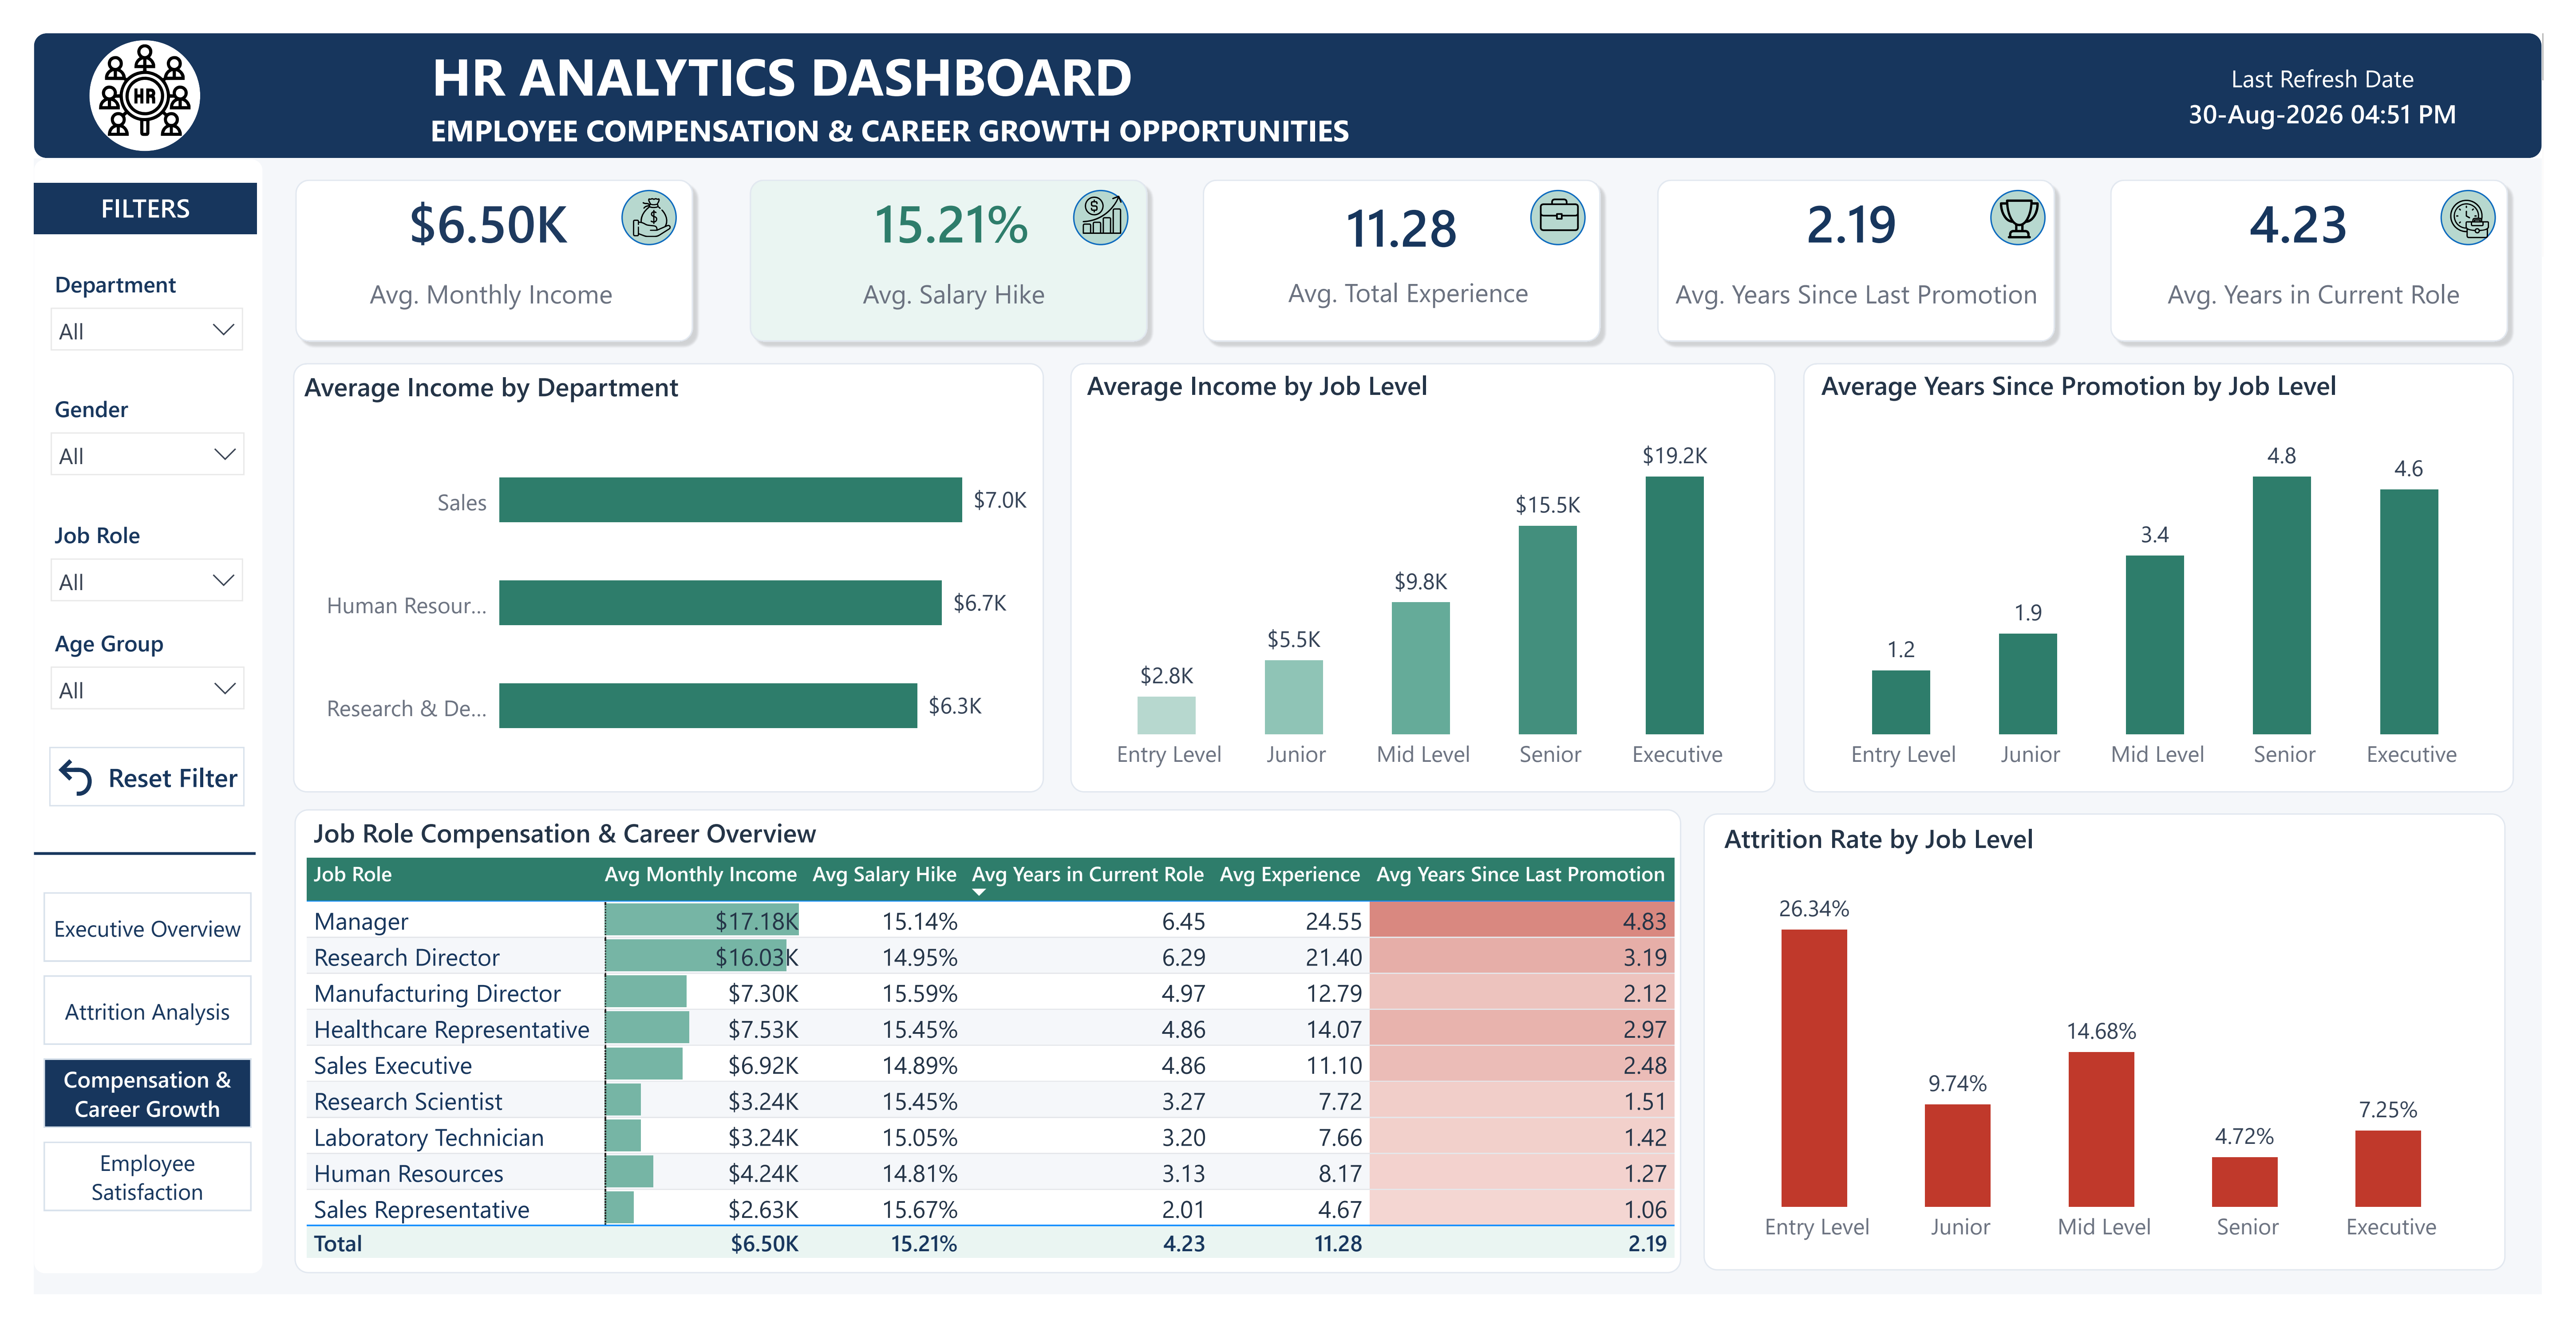

What the dashboard file says about the page in this screenshot:
{"tool":"powerbi","page":{"name":"Compensation & Career Growth","canvas":[1810,910],"ordinal":2},"visuals":[{"type":"shape","box":[0,0,1810,90],"z":0},{"type":"shape","box":[423.5,113.2,40,40],"z":0,"group":"g7"},{"type":"shape","box":[750.2,113.2,40,40],"z":0,"group":"g8"},{"type":"shape","box":[1080.2,113.2,40,40],"z":0,"group":"g9"},{"type":"shape","box":[1411.8,113.2,40,40],"z":0,"group":"g10"},{"type":"shape","box":[1736.8,113.2,40,40],"z":0,"group":"g11"},{"type":"image","box":[756.9,117.2,28,28],"z":1000,"group":"g8"},{"type":"image","box":[1086.9,117.2,28,28],"z":1000,"group":"g9"},{"type":"image","box":[431.5,119.1,28,28],"z":1000,"group":"g7"},{"type":"image","box":[1418.5,119.9,28.3,28.3],"z":1000,"group":"g10"},{"type":"image","box":[1743.5,119.9,28,28],"z":1000,"group":"g11"},{"type":"shape","box":[187.5,560.4,1001,335],"z":1000},{"type":"shape","box":[187.3,238.3,541.4,310],"z":2000},{"type":"textbox","box":[281.7,0,575.7,60],"z":3000},{"type":"clusteredBarChart","title":"Average Income by Department","fields":{"Y":["_Measures.Average Salary"],"Category":["hr_employees.department"]},"box":[190.1,241.6,531.6,299.4],"z":4000},{"type":"textbox","box":[280.9,50.5,777.2,38.7],"z":5000},{"type":"shape","box":[0,91.3,164.7,804],"z":6000},{"type":"shape","box":[1492.1,98.8,300,130],"z":7000,"group":"g5"},{"type":"slicer","fields":{"Values":["hr_employees.department"]},"box":[1.6,164.7,159.8,89.7],"z":7000},{"type":"shape","box":[182.2,99.1,300,130],"z":8000,"group":"g1"},{"type":"slicer","fields":{"Values":["hr_employees.gender"]},"box":[1.6,255.4,160,90],"z":8000},{"type":"shape","box":[509.7,98.8,300,130],"z":9000,"group":"g2"},{"type":"slicer","fields":{"Values":["hr_employees.Age Group"]},"box":[1.6,424,160,90],"z":9000},{"type":"shape","box":[837.1,98.8,300,130],"z":10000,"group":"g3"},{"type":"slicer","fields":{"Values":["hr_employees.job_role"]},"box":[1.6,346.4,159.8,76.6],"z":10000},{"type":"cardVisual","fields":{"Data":["_Measures.Last Refresh Date"]},"box":[1503.6,0,306.6,89.7],"z":11000},{"type":"shape","box":[1164.6,98.8,300,130],"z":11000,"group":"g4"},{"type":"textbox","box":[0,107.6,161.5,37.5],"z":12000},{"type":"shape","box":[0,585.5,159.8,13],"z":13000},{"type":"cardVisual","fields":{"Data":["_Measures.Average Salary"]},"box":[217.5,98.8,220.4,70.7],"z":14000,"group":"g1"},{"type":"pageNavigator","box":[6.5,619.7,150,231.6],"z":14000},{"type":"textbox","box":[231,169.5,198.5,38.7],"z":15000,"group":"g1"},{"type":"actionButton","box":[11.4,515.3,140.3,42.4],"z":15000},{"type":"shape","box":[40.4,5,80,80],"z":16000},{"type":"cardVisual","fields":{"Data":["_Measures.Average Salary Hike"]},"box":[558.5,98.8,208.6,70.7],"z":16000,"group":"g2"},{"type":"image","box":[47.1,8.4,65.6,65.6],"z":17000},{"type":"textbox","box":[578.7,169.5,169.9,38.7],"z":17000,"group":"g2"},{"type":"group","id":"g1","title":"Group 2","box":[182.2,98.8,300,130.3],"z":18000},{"type":"cardVisual","fields":{"Data":["_Measures.Average Experience Years"]},"box":[884.2,98.8,206.9,75.7],"z":18000,"group":"g3"},{"type":"group","id":"g2","title":"Group 3","box":[509.7,98.8,300,130],"z":19000},{"type":"textbox","box":[899.1,168.9,185.9,39.1],"z":19000,"group":"g3"},{"type":"group","id":"g3","title":"Group 4","box":[837.1,98.8,300,130],"z":20000},{"type":"cardVisual","fields":{"Data":["_Measures.Average Years Since Promotion"]},"box":[1211.2,98.9,200,70],"z":20000,"group":"g4"},{"type":"group","id":"g4","title":"Group 5","box":[1164.6,98.8,300,130],"z":21000},{"type":"textbox","box":[1178.1,169.5,274.2,38.7],"z":21000,"group":"g4"},{"type":"group","id":"g5","title":"Group 6","box":[1492.1,98.8,300,130],"z":22000},{"type":"cardVisual","fields":{"Data":["_Measures.Average Years in Current Role"]},"box":[1534.7,98.9,200,70],"z":22000,"group":"g5"},{"type":"textbox","box":[1515.7,169.5,259.1,38.7],"z":23000,"group":"g5"},{"type":"group","id":"g6","title":"Group 8","box":[1276.7,238.3,513.3,310.2],"z":23000},{"type":"shape","box":[1276.7,238.3,513.3,310.2],"z":24000,"group":"g6"},{"type":"shape","box":[1205.2,563.2,578.9,329.4],"z":24000},{"type":"shape","box":[748.3,238.3,508.8,310],"z":25000},{"type":"group","id":"g7","title":"Group 13","box":[423.5,113.2,40,40],"z":26000},{"type":"group","id":"g8","title":"Group 13","box":[750.2,113.2,40,40],"z":27000},{"type":"clusteredColumnChart","title":"Attrition Rate by Job Level","fields":{"Category":["hr_employees.Job Level Text"],"Y":["_Measures.Attrition Rate"]},"box":[1215,567.5,559.4,314.7],"z":28000},{"type":"group","id":"g9","title":"Group 13","box":[1080.2,113.2,40,40],"z":29000},{"type":"group","id":"g10","title":"Group 13","box":[1411.8,113.2,40,40],"z":30000},{"type":"group","id":"g11","title":"Group 13","box":[1736.8,113.2,40,40],"z":31000},{"type":"clusteredColumnChart","title":"Average Years Since Promotion by Job Level","fields":{"Category":["hr_employees.Job Level Text"],"Y":["_Measures.Average Years Since Promotion"]},"box":[1285.1,241.3,495.8,300.1],"z":32000},{"type":"clusteredColumnChart","title":"Average Income by Job Level","fields":{"Category":["hr_employees.Job Level Text"],"Y":["_Measures.Average Salary"]},"box":[755.1,241.4,495.8,300.1],"z":33000},{"type":"tableEx","title":"Job Role Compensation & Career Overview","fields":{"Values":["hr_employees.job_role","_Measures.Average Salary","_Measures.Average Salary Hike","_Measures.Average Years in Current Role","_Measures.Average Experience Years","_Measures.Average Years Since Promotion"]},"box":[190.8,590.4,999.7,300.1],"z":34000},{"type":"textbox","box":[197.3,559.4,391.4,35.9],"z":35000}]}

Visuals, with their boxes on the page's 1810x910 design canvas (x1, y1, x2, y2). These are canvas units, not pixel positions in the 2576x1328 screenshot, which may show the page scaled, cropped or inside an application window:
shape: bbox=[0, 0, 1810, 90]
shape: bbox=[424, 113, 464, 153]
shape: bbox=[750, 113, 790, 153]
shape: bbox=[1080, 113, 1120, 153]
shape: bbox=[1412, 113, 1452, 153]
shape: bbox=[1737, 113, 1777, 153]
image: bbox=[757, 117, 785, 145]
image: bbox=[1087, 117, 1115, 145]
image: bbox=[432, 119, 460, 147]
image: bbox=[1418, 120, 1447, 148]
image: bbox=[1744, 120, 1772, 148]
shape: bbox=[188, 560, 1188, 895]
shape: bbox=[187, 238, 729, 548]
textbox: bbox=[282, 0, 857, 60]
"Average Income by Department" clusteredBarChart: bbox=[190, 242, 722, 541]
textbox: bbox=[281, 50, 1058, 89]
shape: bbox=[0, 91, 165, 895]
shape: bbox=[1492, 99, 1792, 229]
slicer - hr_employees.department: bbox=[2, 165, 161, 254]
shape: bbox=[182, 99, 482, 229]
slicer - hr_employees.gender: bbox=[2, 255, 162, 345]
shape: bbox=[510, 99, 810, 229]
slicer - hr_employees.Age Group: bbox=[2, 424, 162, 514]
shape: bbox=[837, 99, 1137, 229]
slicer - hr_employees.job_role: bbox=[2, 346, 161, 423]
cardVisual - _Measures.Last Refresh Date: bbox=[1504, 0, 1810, 90]
shape: bbox=[1165, 99, 1465, 229]
textbox: bbox=[0, 108, 162, 145]
shape: bbox=[0, 586, 160, 598]
cardVisual - _Measures.Average Salary: bbox=[218, 99, 438, 170]
pageNavigator: bbox=[6, 620, 156, 851]
textbox: bbox=[231, 170, 430, 208]
actionButton: bbox=[11, 515, 152, 558]
shape: bbox=[40, 5, 120, 85]
cardVisual - _Measures.Average Salary Hike: bbox=[558, 99, 767, 170]
image: bbox=[47, 8, 113, 74]
textbox: bbox=[579, 170, 749, 208]
"Group 2" group: bbox=[182, 99, 482, 229]
cardVisual - _Measures.Average Experience Years: bbox=[884, 99, 1091, 174]
"Group 3" group: bbox=[510, 99, 810, 229]
textbox: bbox=[899, 169, 1085, 208]
"Group 4" group: bbox=[837, 99, 1137, 229]
cardVisual - _Measures.Average Years Since Promotion: bbox=[1211, 99, 1411, 169]
"Group 5" group: bbox=[1165, 99, 1465, 229]
textbox: bbox=[1178, 170, 1452, 208]
"Group 6" group: bbox=[1492, 99, 1792, 229]
cardVisual - _Measures.Average Years in Current Role: bbox=[1535, 99, 1735, 169]
textbox: bbox=[1516, 170, 1775, 208]
"Group 8" group: bbox=[1277, 238, 1790, 548]
shape: bbox=[1277, 238, 1790, 548]
shape: bbox=[1205, 563, 1784, 893]
shape: bbox=[748, 238, 1257, 548]
"Group 13" group: bbox=[424, 113, 464, 153]
"Group 13" group: bbox=[750, 113, 790, 153]
"Attrition Rate by Job Level" clusteredColumnChart: bbox=[1215, 568, 1774, 882]
"Group 13" group: bbox=[1080, 113, 1120, 153]
"Group 13" group: bbox=[1412, 113, 1452, 153]
"Group 13" group: bbox=[1737, 113, 1777, 153]
"Average Years Since Promotion by Job Level" clusteredColumnChart: bbox=[1285, 241, 1781, 541]
"Average Income by Job Level" clusteredColumnChart: bbox=[755, 241, 1251, 542]
"Job Role Compensation & Career Overview" tableEx: bbox=[191, 590, 1190, 890]
textbox: bbox=[197, 559, 589, 595]
